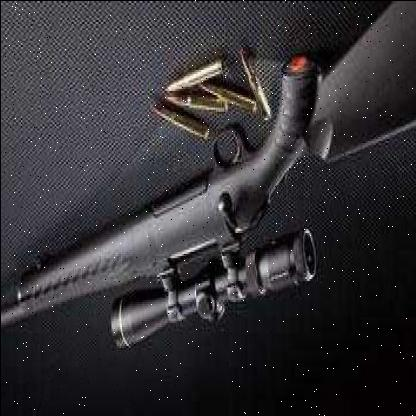rifle: (4, 1, 416, 370)
